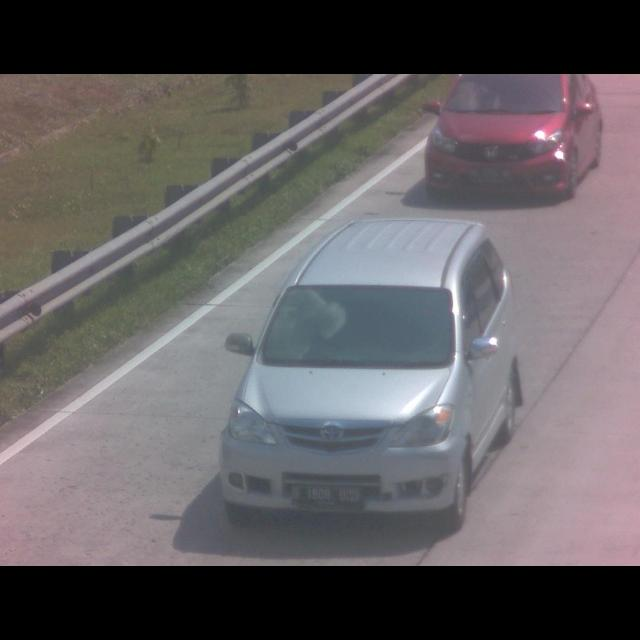plate: (290, 484, 362, 512)
